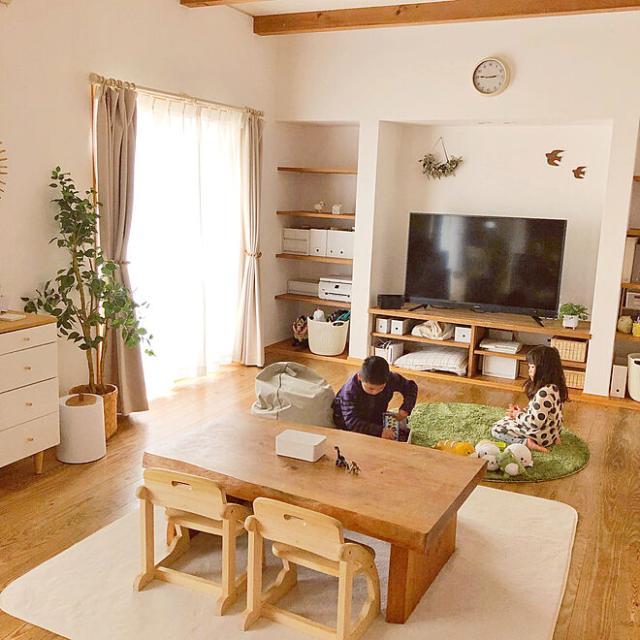natural chair: (250, 495, 386, 637), (129, 465, 252, 616)
natural desk: (142, 403, 488, 624)
